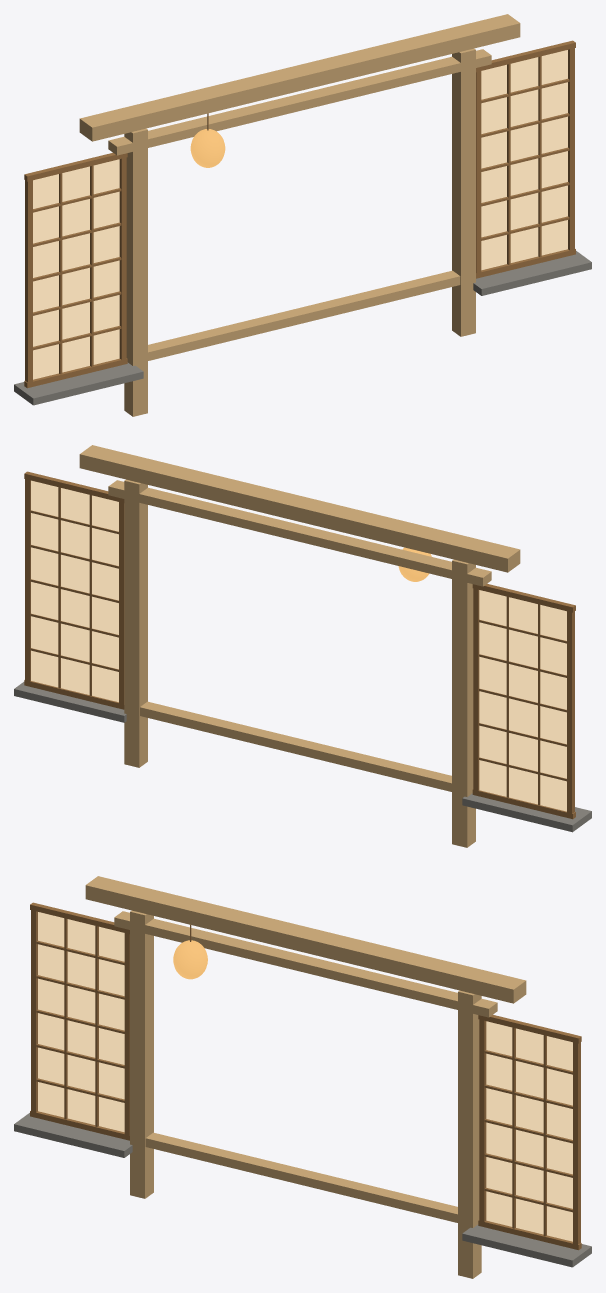
3 renders of one model, top to bottom at view 1: azimuth 30°, elevation 25°; view 2: azimuth 150°, elevation 25°; view 3: azimuth 330°, elevation 25°, orthographic.
Parts seen in each view (by area): view 1: torii, paper1, paper-1, kumiko-1, kumiko1, base-1, base1, lantern; view 2: torii, paper-1, paper1, kumiko-1, kumiko1, base-1, base1; view 3: torii, paper-1, paper1, kumiko1, kumiko-1, base1, base-1, lantern.
Boxes of the visible parts, x1,y1,x2,y2 form: torii: (79, 14, 520, 416); paper1: (481, 50, 567, 270); paper-1: (33, 159, 119, 379); kumiko-1: (24, 153, 127, 388); kumiko1: (476, 40, 575, 278); base-1: (14, 362, 143, 405); base1: (473, 251, 591, 295); lantern: (190, 129, 225, 167); torii: (79, 445, 520, 847); paper-1: (479, 590, 566, 811); paper1: (31, 480, 118, 702); kumiko-1: (472, 583, 575, 819); kumiko1: (24, 471, 124, 709); base-1: (462, 793, 591, 832); base1: (14, 682, 126, 722); torii: (85, 876, 526, 1278); paper-1: (38, 912, 124, 1132); paper1: (486, 1021, 572, 1241); kumiko1: (478, 1015, 581, 1250); kumiko-1: (30, 902, 129, 1140); base1: (462, 1224, 591, 1267); base-1: (14, 1113, 132, 1157); lantern: (173, 940, 207, 979).
Bounding box in the file's own units: 3.34 × 1.72 × 0.28.
